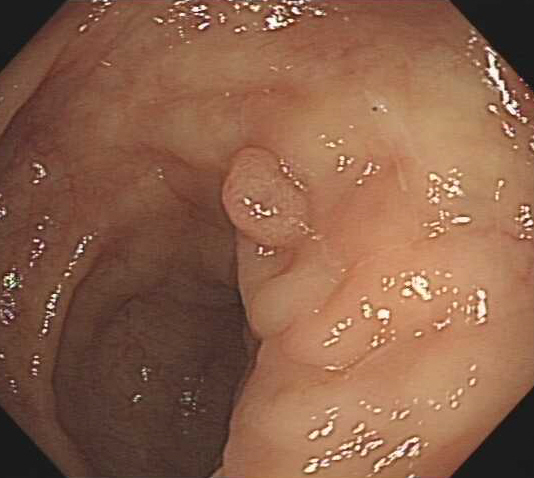adenoma: (218, 145, 312, 248)
